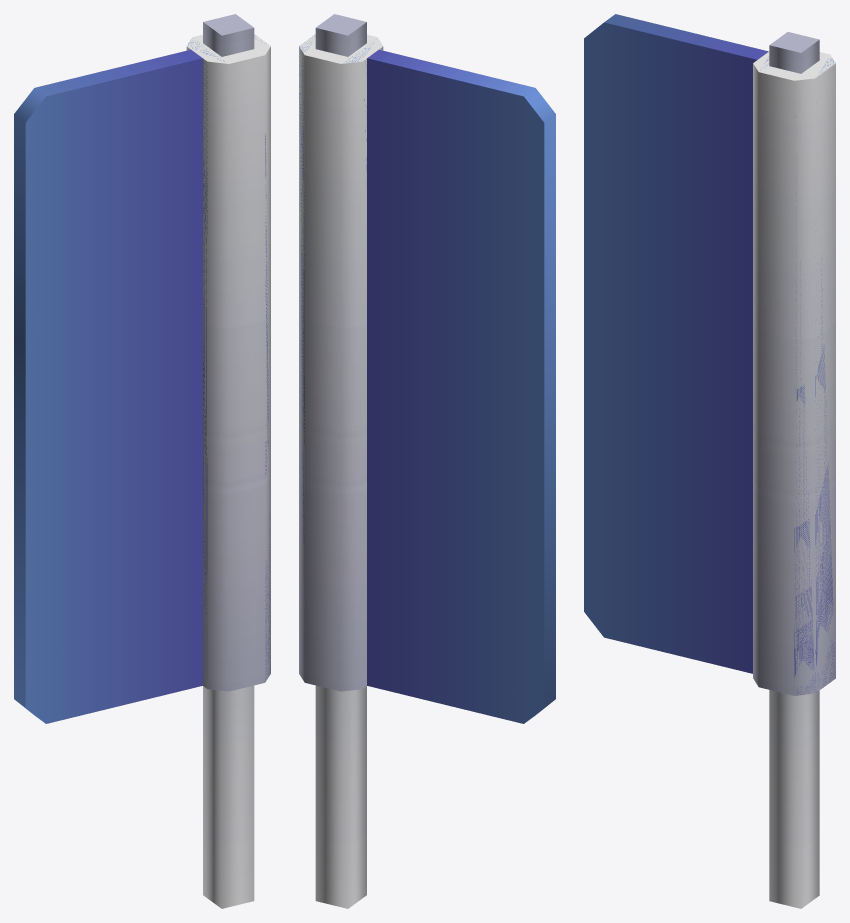
The model's file is flag-large-blue.glb.
3 renders of one model, left to right at view 1: azimuth 30°, elevation 25°; view 2: azimuth 150°, elevation 25°; view 3: azimuth 330°, elevation 25°, orthographic. The views are drawn at different scales.
Visible parts, largest first — view 1: flag-large-blue; view 2: flag-large-blue; view 3: flag-large-blue.
Boxes of the visible parts, left/top/right/bottom form: flag-large-blue: left=14, top=14, right=270, bottom=908; flag-large-blue: left=299, top=14, right=555, bottom=908; flag-large-blue: left=584, top=14, right=835, bottom=908.
Bounding box in the file's own units: 0.2955 × 1.02 × 0.0781.
1 material, 1 textured.
